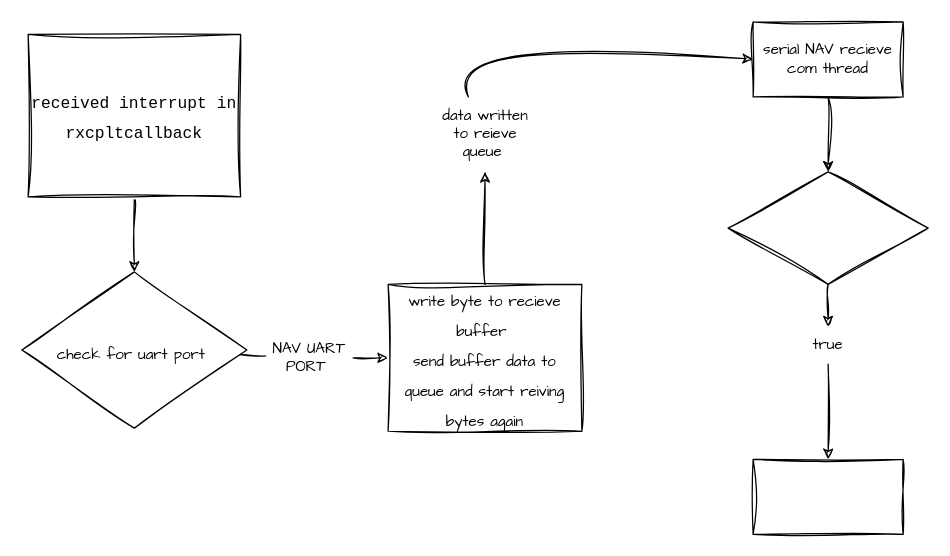
This 950x556 diagram has some shape labels left out. Each missing label, with the centre of its shape:
check q reieved the data: point 827,227
decode the data and queue the next reiece data: point 827,496
